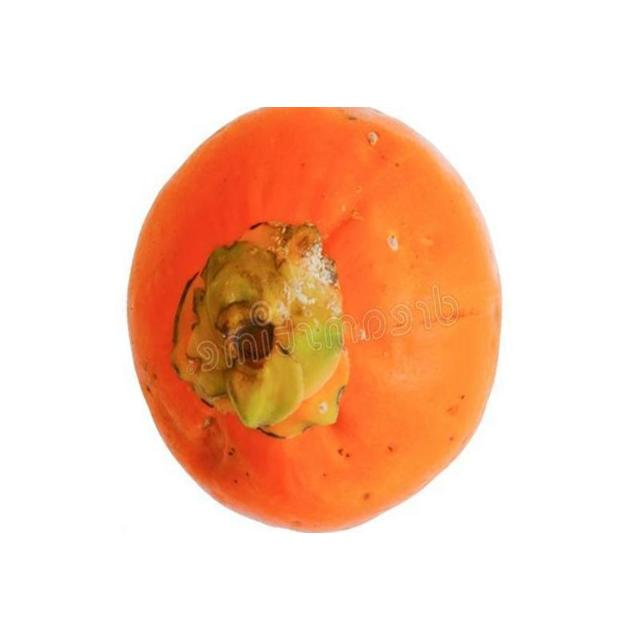good: (125, 107, 505, 533), (147, 191, 496, 530)
